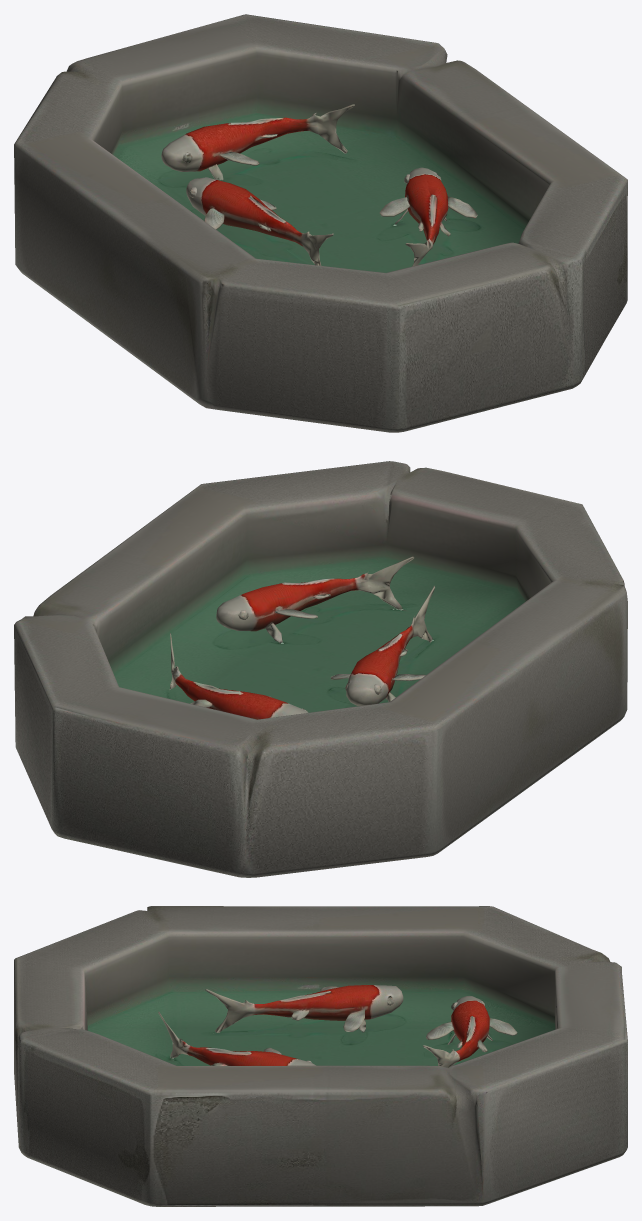
The model's file is tripo_convert_3f1aa5d5-7860-4ad1-9347-fea158bf70f3.fbx.
3 views of the same model, one above another, from view 1: azimuth 30°, elevation 25°; view 2: azimuth 150°, elevation 25°; view 3: azimuth 270°, elevation 25° (orthographic). The views are drawn at different scales.
Visible parts, largest first — view 1: tripo_node_3f1aa5d5; view 2: tripo_node_3f1aa5d5; view 3: tripo_node_3f1aa5d5.
Boxes of the visible parts, x1,y1,x2,y2 form: tripo_node_3f1aa5d5: [14, 14, 627, 432]; tripo_node_3f1aa5d5: [14, 461, 627, 877]; tripo_node_3f1aa5d5: [14, 906, 627, 1206].
Size of the model in its own units: 0.7246 by 0.209 by 0.998.
Materials: 1 (1 with a texture image).
